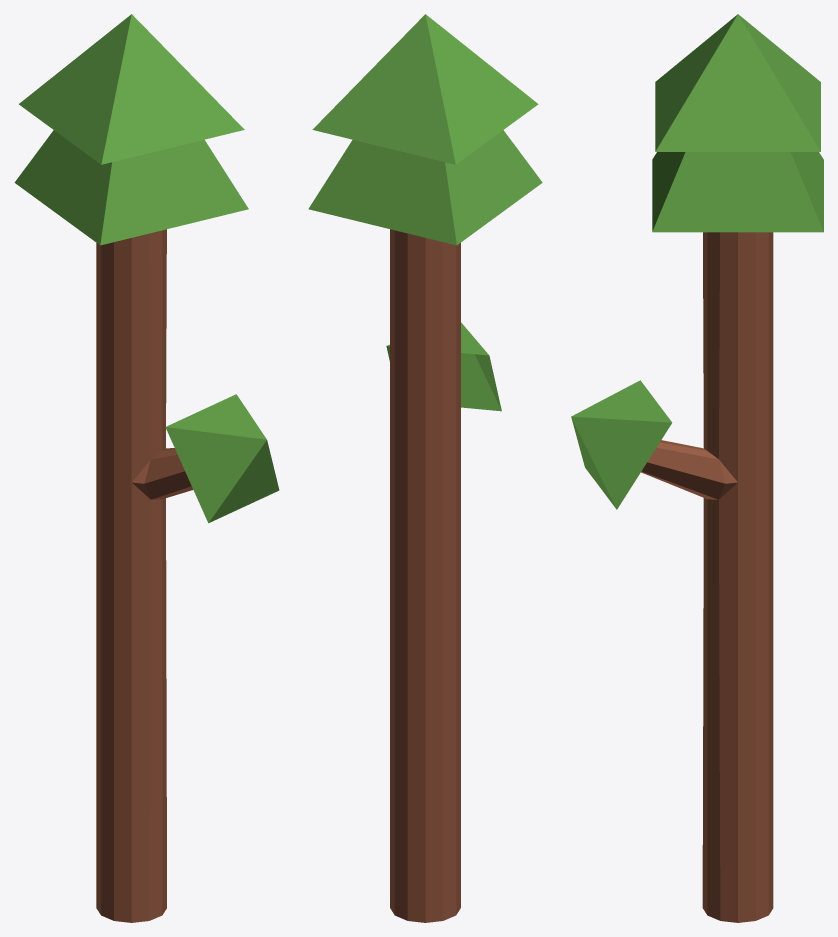
File: Tree_25_summer_pal.fbx
The picture shows the model from 3 angles, left to right: view 1: azimuth 30°, elevation 25°; view 2: azimuth 150°, elevation 25°; view 3: azimuth 270°, elevation 25°; orthographic projection.
Visible parts, largest first — view 1: Tree_25_summer_pal; view 2: Tree_25_summer_pal; view 3: Tree_25_summer_pal.
Boxes of the visible parts, left/top/right/bottom form: Tree_25_summer_pal: left=14, top=14, right=279, bottom=922; Tree_25_summer_pal: left=308, top=14, right=542, bottom=922; Tree_25_summer_pal: left=571, top=14, right=823, bottom=922.
Size of the model in its own units: 58.32 by 308 by 79.03.
